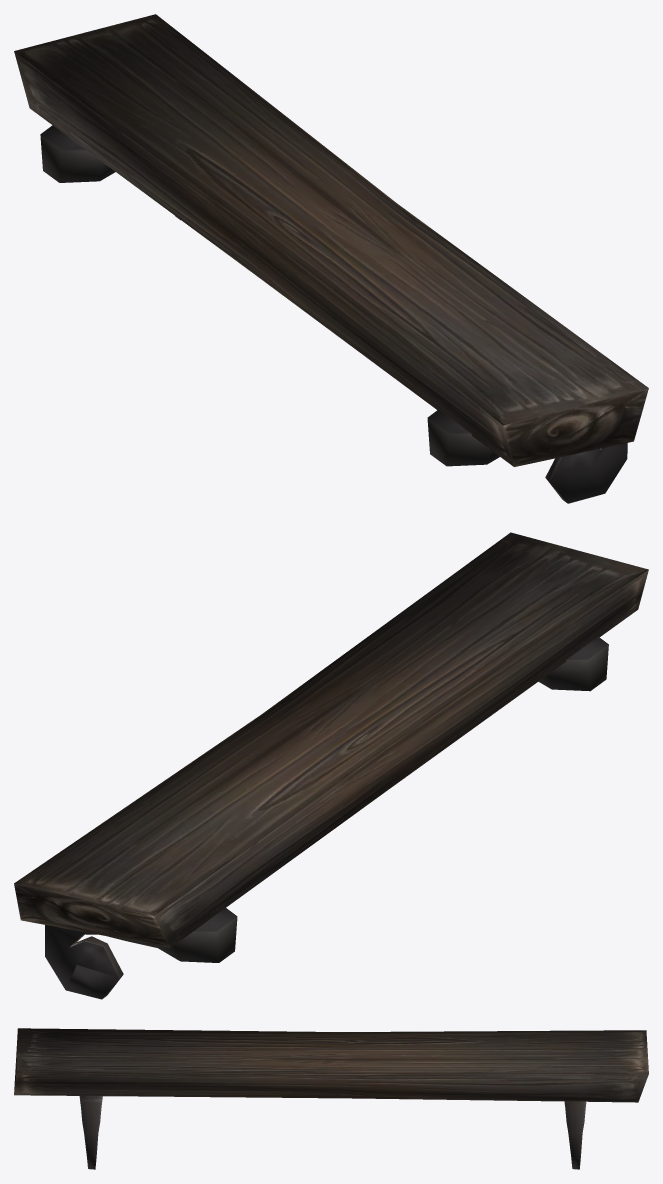
3 renders of one model, top to bottom at view 1: azimuth 30°, elevation 25°; view 2: azimuth 150°, elevation 25°; view 3: azimuth 270°, elevation 25°, orthographic. The views are drawn at different scales.
Bounding box in the file's own units: 0.7873 × 0.6201 × 3.73.
Materials: 1 (1 with a texture image).
